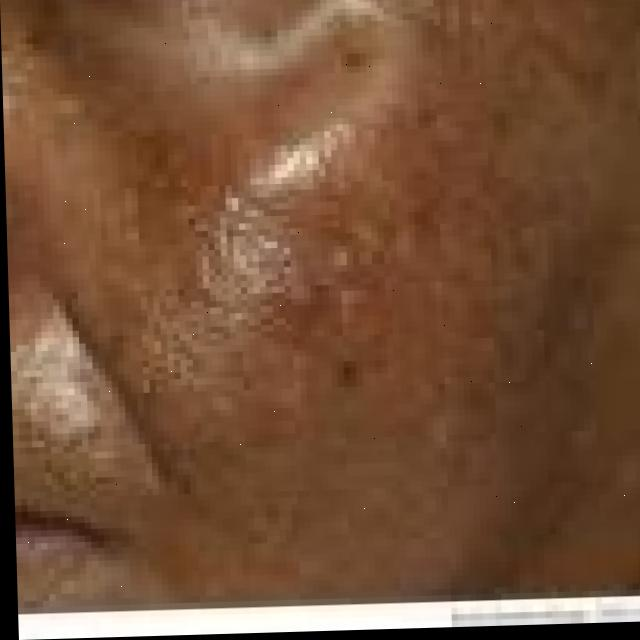Melasma: (110, 76, 525, 388)
